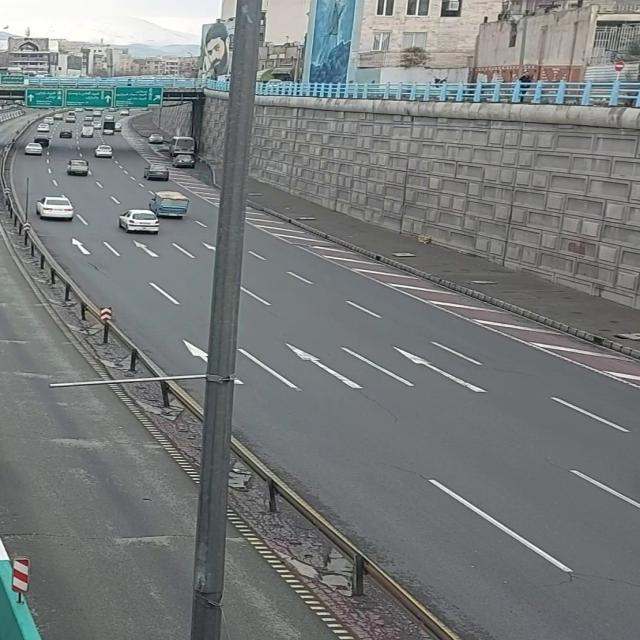Car: (118, 208, 160, 236), (35, 196, 77, 222)
Pickup: (149, 191, 193, 221)
